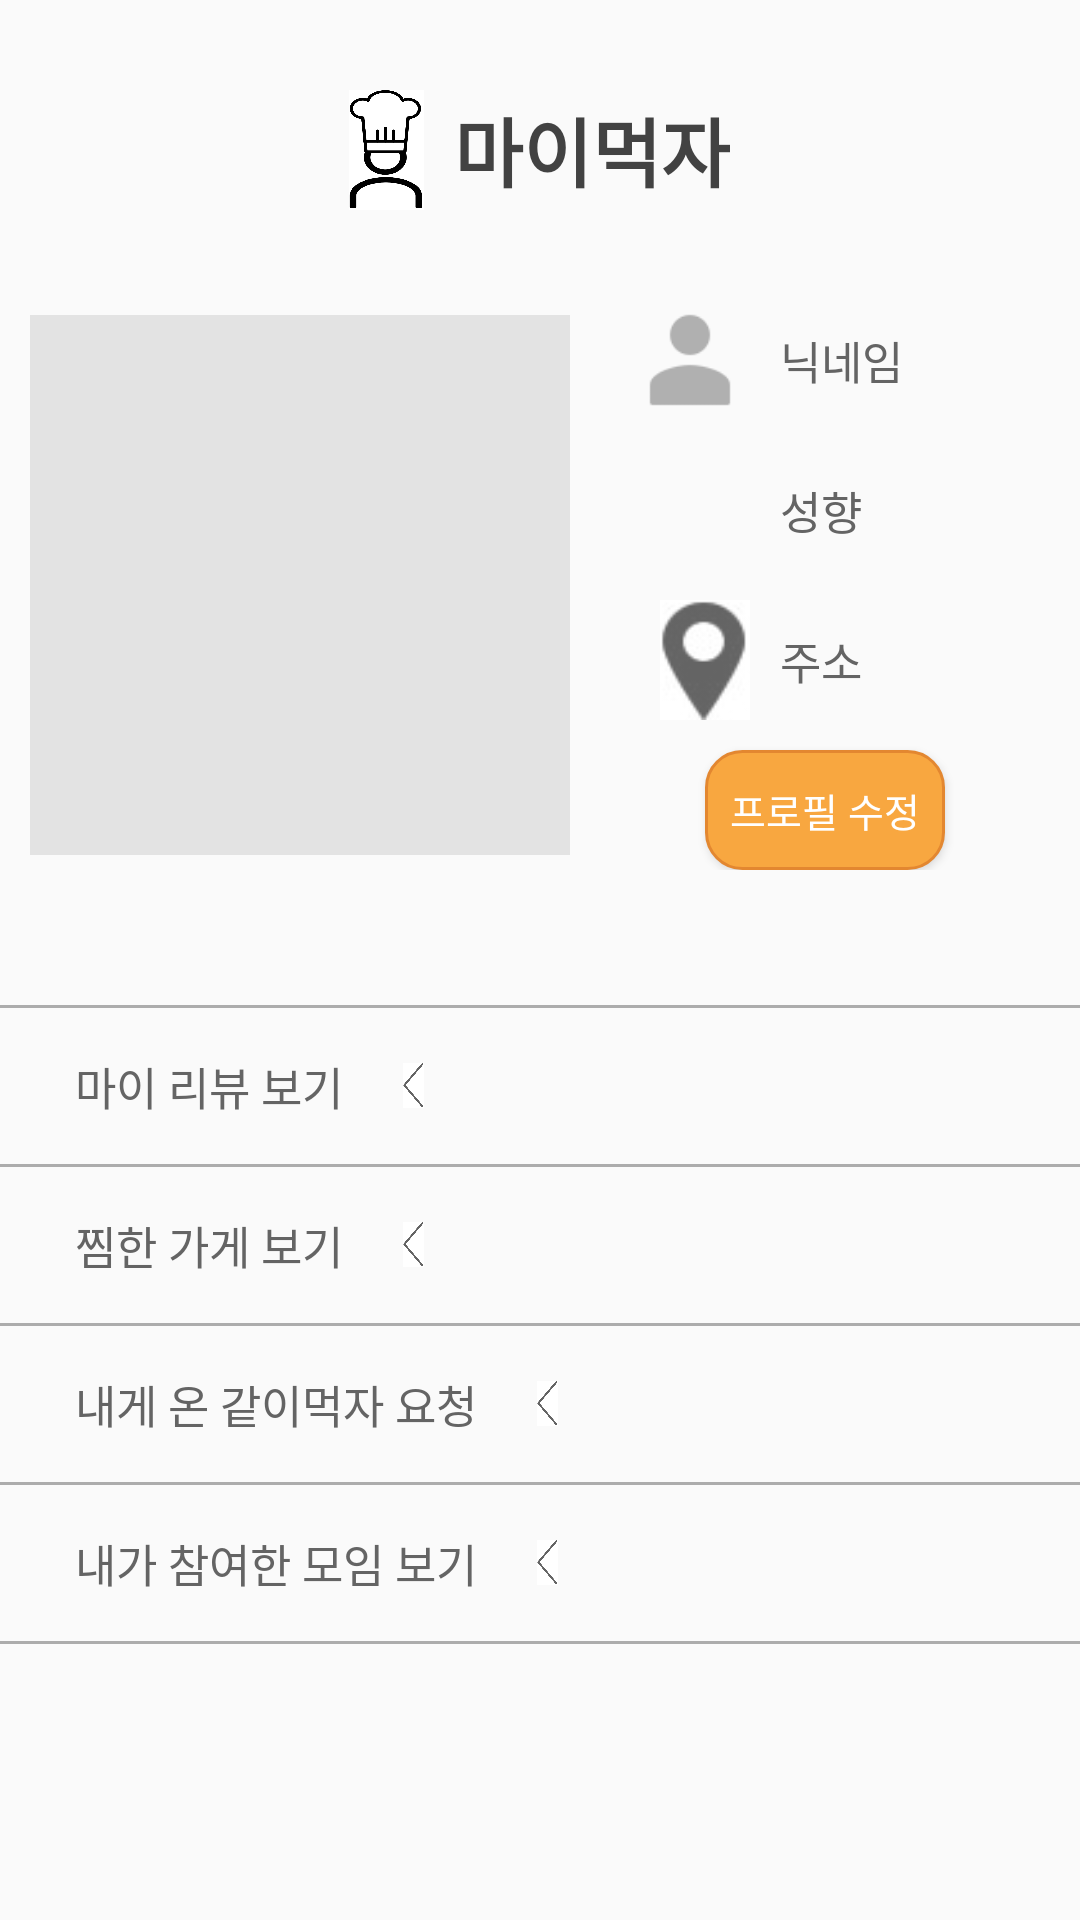

Locate icon controls on the screen. Image size 1080 x 1920, boxes as box(x1, y1, x2, y2).
addr: box(662, 602, 746, 720)
mypage: box(350, 90, 422, 208), box(650, 315, 730, 405)
